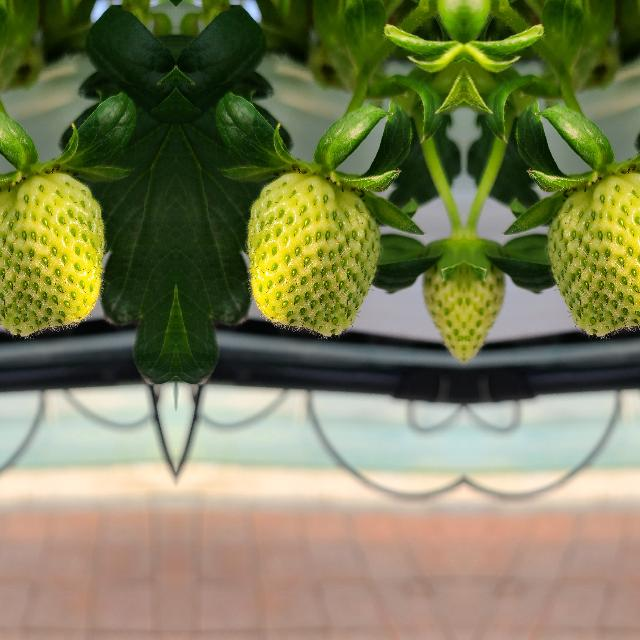Health_25: (246, 174, 380, 336), (0, 174, 103, 335), (546, 174, 640, 335)
